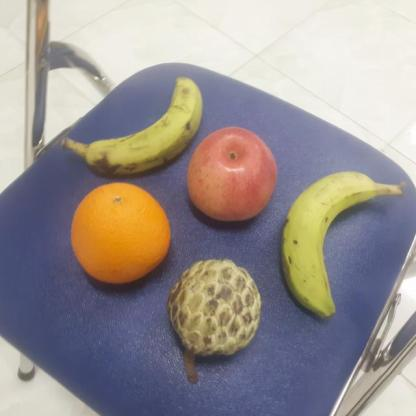annona: (166, 256, 264, 356)
apple: (184, 123, 281, 224)
banana: (278, 168, 384, 320), (82, 72, 205, 176)
orange: (68, 178, 174, 286)
